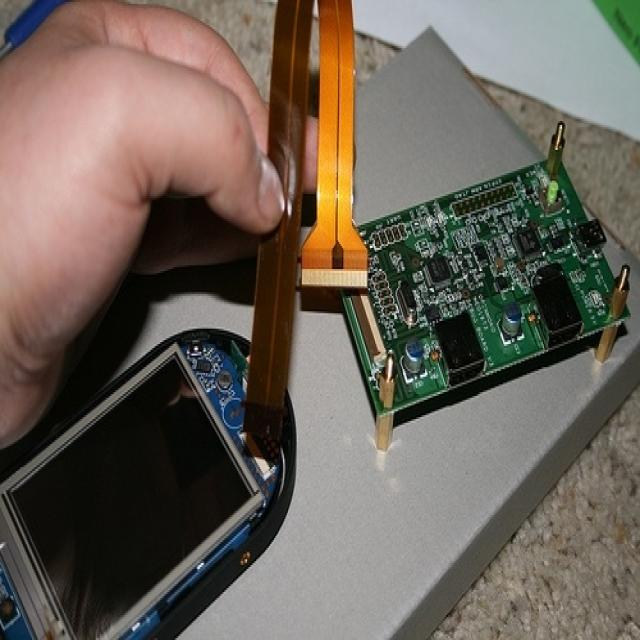E-waste: (16, 354, 306, 640), (366, 121, 608, 439)
